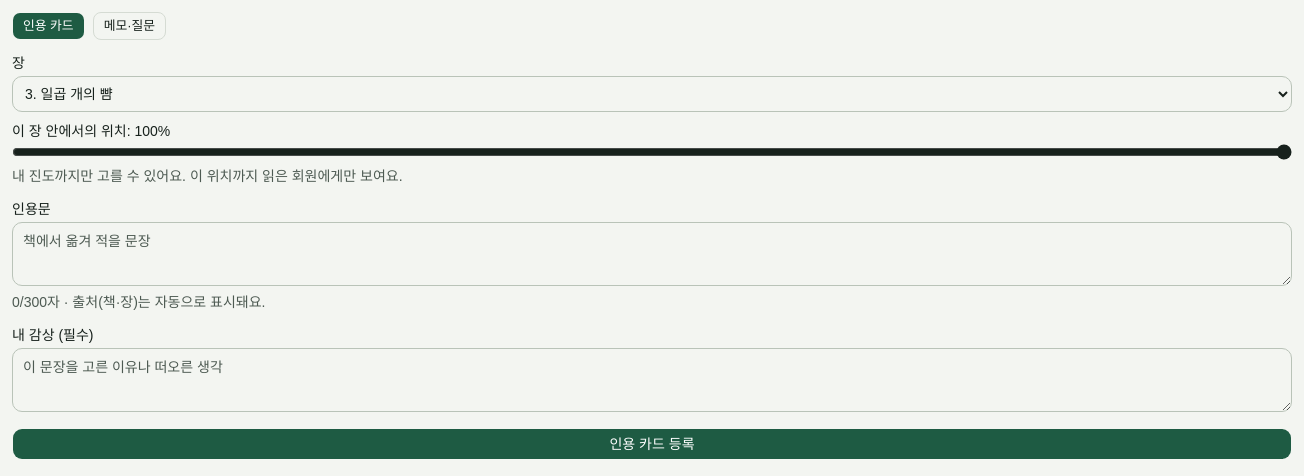
Test: 글 남기기 › 완독한 회원은 책 전체에 대한 글을 고를 수 있고, 고르면 위치 칸이 사라진다
Click the tab "메모·질문": [129, 26] box [93,12,166,40]
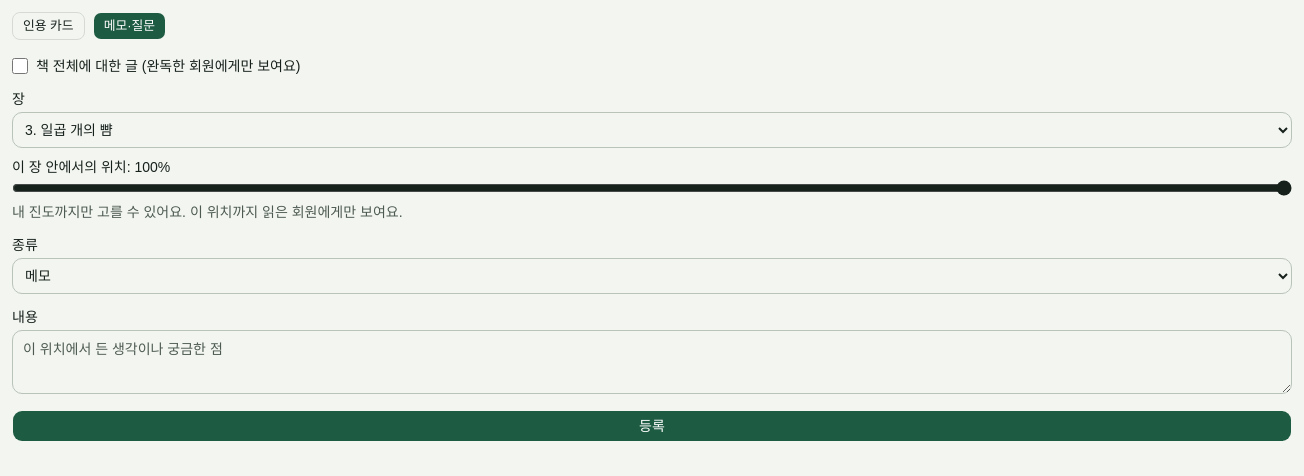
Click the checkbox labelled "책 전체에 대한 글 (완독한 회원에게만 보여요)": [20, 66] box [12,58,28,74]
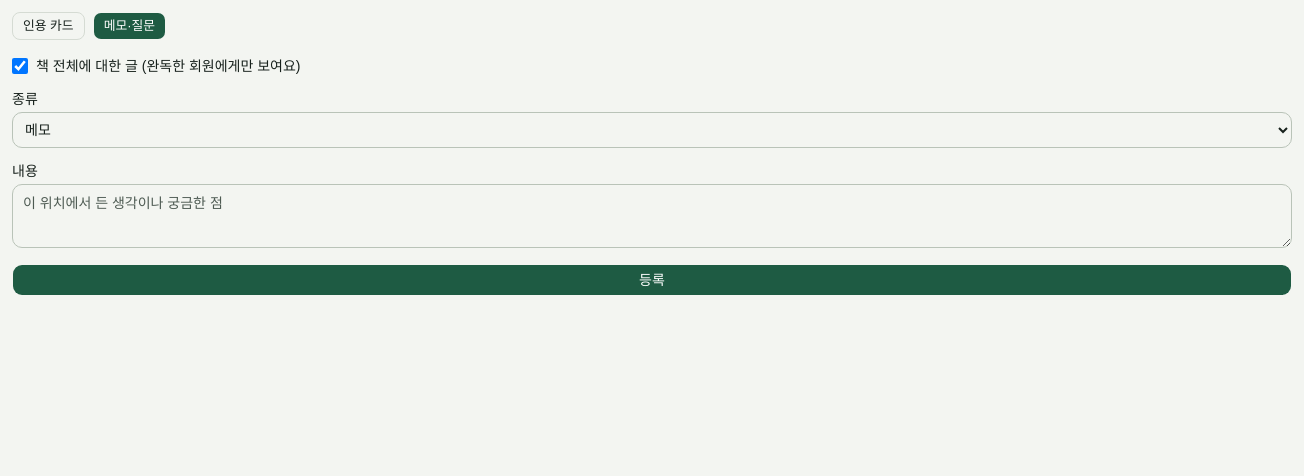
Now the label labelled "장" is gone
